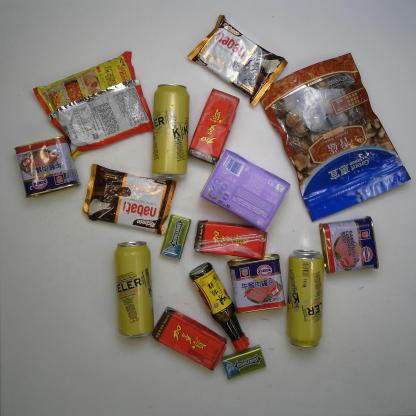Alcohol: (112, 237, 156, 341), (149, 81, 191, 182), (284, 249, 326, 349)
Canned Food: (13, 135, 82, 200), (316, 214, 381, 276), (225, 252, 287, 315)
Dessert: (186, 13, 290, 109), (82, 163, 180, 237)
Dried Food: (253, 50, 413, 224)
Drink: (149, 304, 228, 373), (186, 86, 242, 166), (192, 219, 270, 262)
Gum: (220, 343, 268, 382), (158, 213, 192, 261)
Instant Noodles: (30, 49, 156, 164)
Seasoner: (187, 259, 252, 353)
Tissue: (197, 146, 292, 234)
